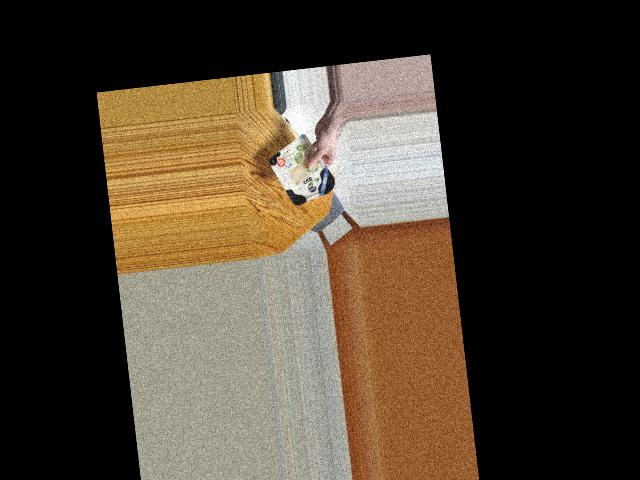cheese: (270, 137, 340, 208)
